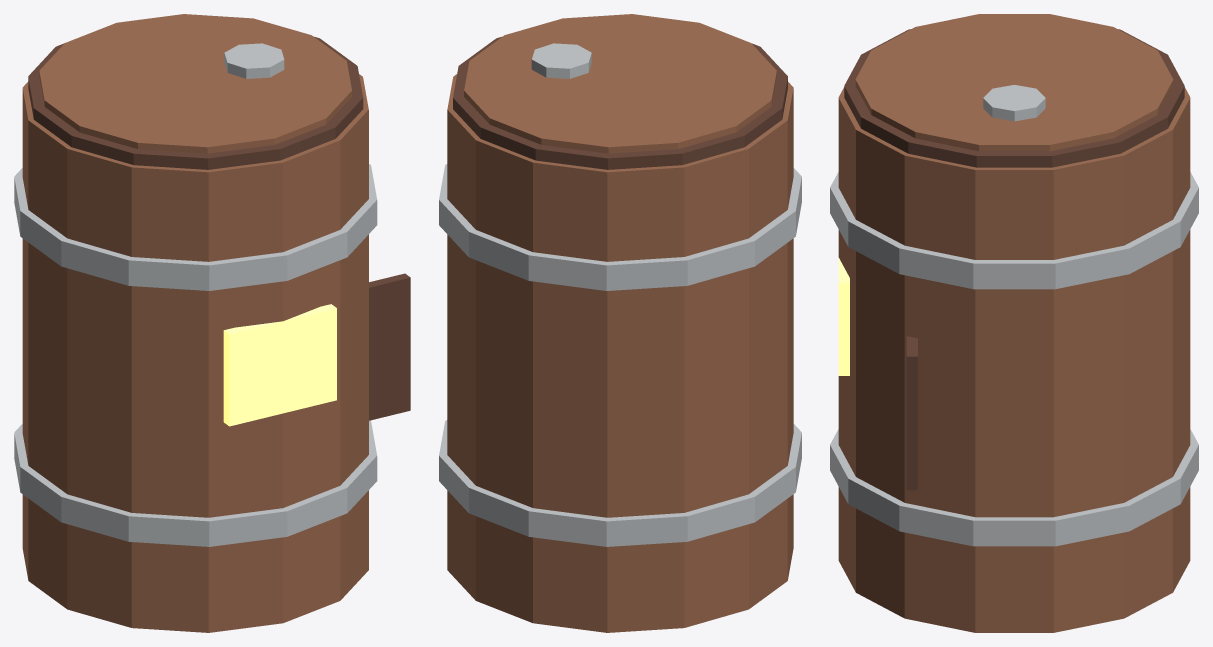
Rendered from Barrel.fbx.
The picture shows the model from 3 angles, left to right: view 1: azimuth 30°, elevation 25°; view 2: azimuth 150°, elevation 25°; view 3: azimuth 270°, elevation 25°; orthographic projection.
Visible parts, largest first — view 1: Barrel; view 2: Barrel; view 3: Barrel.
Part boxes in pixels (left/top/right/bottom): Barrel: left=14, top=14, right=410, bottom=632; Barrel: left=439, top=14, right=801, bottom=632; Barrel: left=830, top=14, right=1198, bottom=632.
Bounding box in the file's own units: 0.6469 × 0.955 × 0.65.
